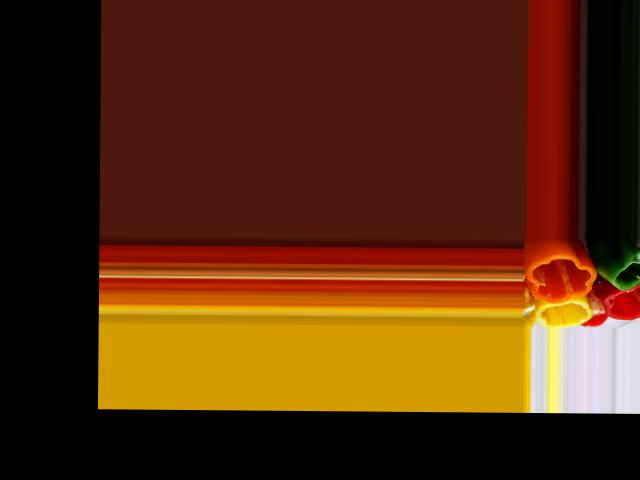bell_pepper: (602, 284, 640, 321)
